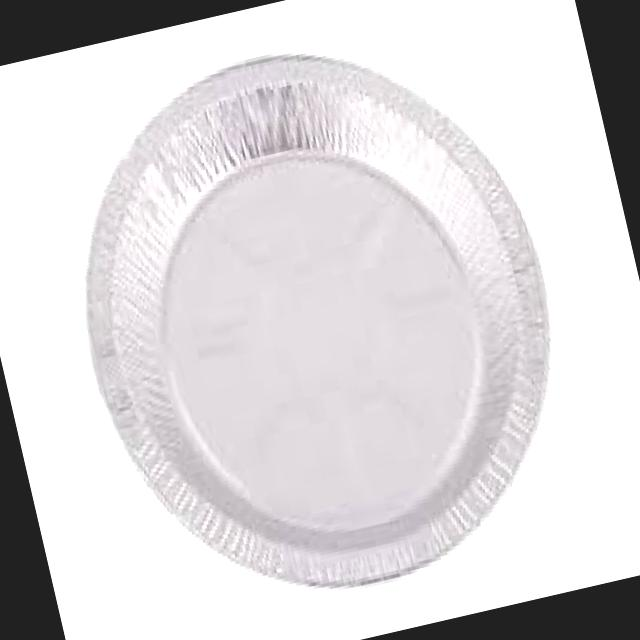metal: (86, 57, 548, 586)
